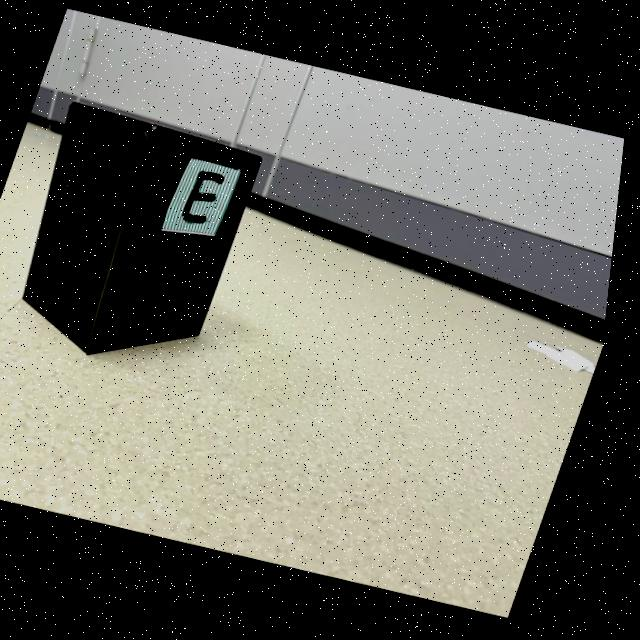E: (187, 173, 228, 225)
